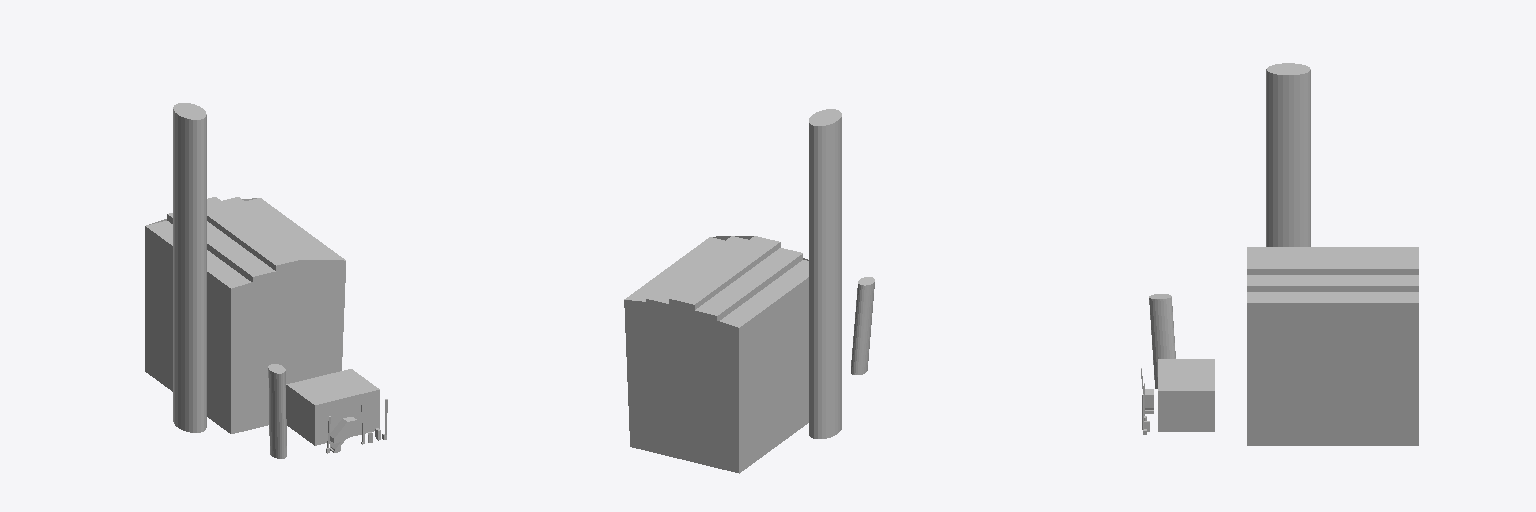
File: Fulton Gas Works.obj
3 renders of one model, left to right at view 1: azimuth 30°, elevation 25°; view 2: azimuth 150°, elevation 25°; view 3: azimuth 270°, elevation 25°, orthographic.
Visible parts, largest first — view 1: Mesh12 Model, Mesh13 Model, Mesh11 Model, Mesh1 Model, Mesh2 Model; view 2: Mesh12 Model, Mesh13 Model, Mesh1 Model; view 3: Mesh12 Model, Mesh13 Model, Mesh11 Model, Mesh1 Model.
Boxes of the visible parts, box(x1,y1,x2,y2) form: Mesh12 Model: box(145, 197, 345, 433); Mesh13 Model: box(173, 103, 206, 432); Mesh11 Model: box(286, 369, 379, 445); Mesh1 Model: box(268, 364, 286, 458); Mesh2 Model: box(330, 417, 356, 452); Mesh12 Model: box(624, 236, 808, 473); Mesh13 Model: box(809, 109, 841, 438); Mesh1 Model: box(851, 277, 874, 374); Mesh12 Model: box(1247, 247, 1418, 445); Mesh13 Model: box(1266, 63, 1310, 246); Mesh11 Model: box(1158, 359, 1214, 431); Mesh1 Model: box(1149, 294, 1175, 388).
Bounding box in the file's own units: 434 × 876 × 707.